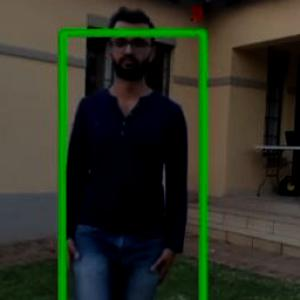follow: (70, 22, 189, 299)
